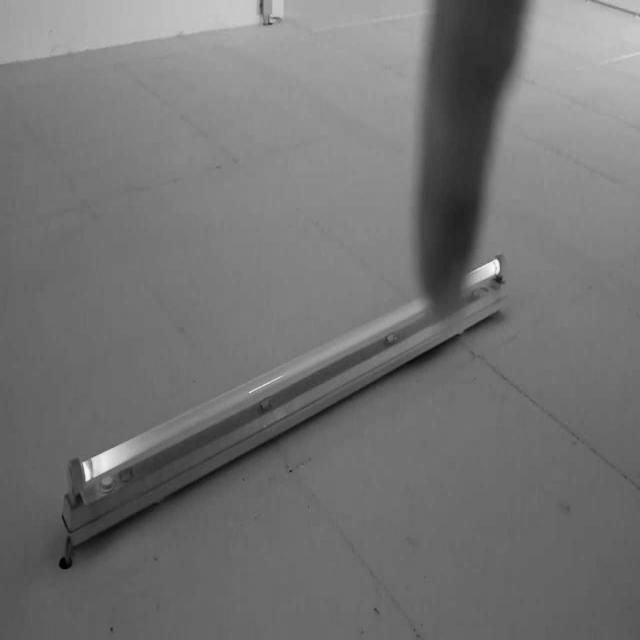light: (58, 257, 507, 564)
